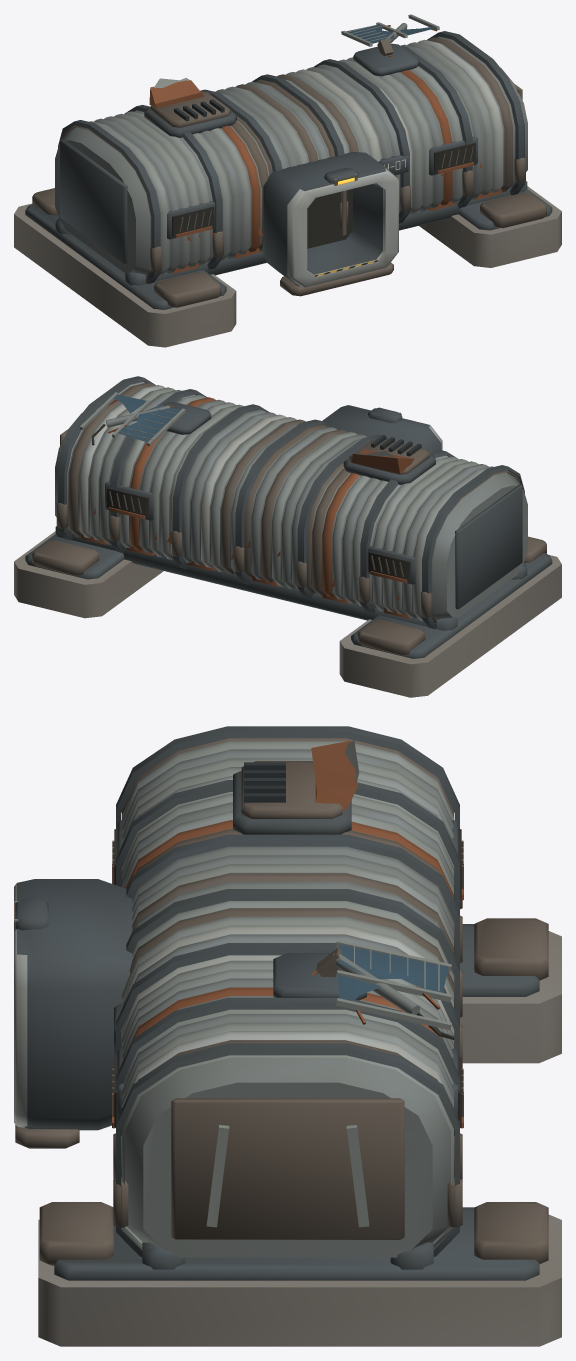
Rendered from hab_module_derelict.glb.
3 views of the same model, one above another, from view 1: azimuth 30°, elevation 25°; view 2: azimuth 150°, elevation 25°; view 3: azimuth 270°, elevation 25° (orthographic). The views are drawn at different scales.
Visible parts, largest first — view 1: Corrugated pressure hull, Foundation, Recessed airlock vestibule, Broken exhaust vent and torn solar wing; view 2: Corrugated pressure hull, Foundation, Broken exhaust vent and torn solar wing, Recessed airlock vestibule; view 3: Corrugated pressure hull, Foundation, Recessed airlock vestibule, Broken exhaust vent and torn solar wing, Emergency strobe housing.
Boxes of the visible parts, x1,y1,x2,y2 form: Corrugated pressure hull: (55,31,527,283); Foundation: (14,181,561,347); Recessed airlock vestibule: (261,152,408,296); Broken exhaust vent and torn solar wing: (144,14,439,137); Corrugated pressure hull: (55,376,527,629); Foundation: (14,526,561,697); Broken exhaust vent and torn solar wing: (80,392,435,484); Recessed airlock vestibule: (322,405,442,451); Corrugated pressure hull: (112,726,463,1257); Foundation: (38,918,561,1346); Recessed airlock vestibule: (14,879,133,1148); Broken exhaust vent and torn solar wing: (233,740,454,1039); Emergency strobe housing: (14,898,48,930).
Size of the model in its own units: 14 by 5.95 by 9.
